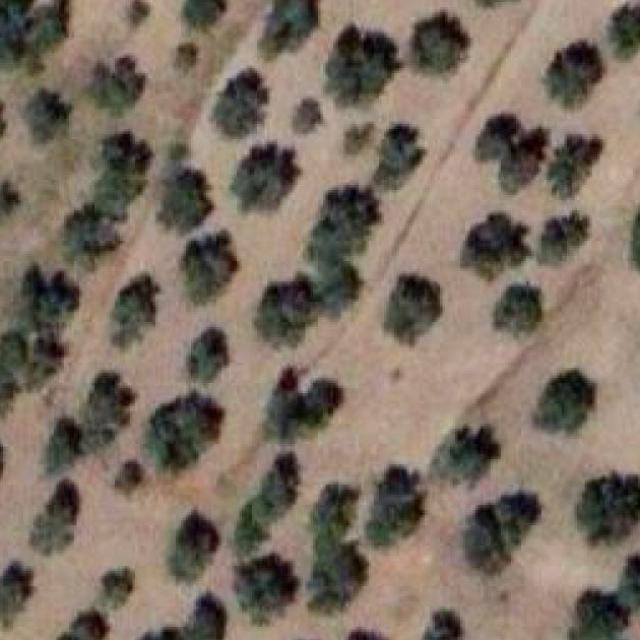Tree: (232, 452, 300, 555), (148, 393, 222, 483), (466, 490, 544, 575), (324, 22, 399, 106), (302, 188, 381, 267), (264, 368, 340, 450), (0, 0, 74, 77), (471, 114, 544, 190), (94, 129, 156, 213), (305, 540, 369, 614), (375, 274, 442, 344), (134, 591, 229, 640), (530, 370, 594, 442), (577, 472, 640, 544), (102, 270, 160, 346), (366, 468, 422, 546), (234, 554, 298, 622), (235, 144, 298, 213), (178, 228, 239, 299), (438, 427, 503, 492), (466, 214, 532, 278), (213, 63, 269, 136), (30, 479, 86, 552), (79, 373, 132, 450), (18, 266, 77, 335), (60, 200, 117, 268), (256, 282, 316, 346), (371, 124, 426, 193), (542, 41, 602, 104), (542, 132, 602, 195), (528, 205, 589, 265), (412, 15, 472, 76), (156, 165, 208, 232), (257, 0, 316, 58), (86, 56, 146, 112), (568, 584, 626, 640), (180, 326, 233, 382), (37, 416, 82, 479), (311, 480, 358, 540), (177, 513, 218, 579), (492, 290, 548, 338), (315, 266, 364, 318), (23, 86, 69, 140), (24, 337, 66, 393), (602, 2, 640, 61), (0, 566, 37, 624), (50, 608, 108, 640), (416, 608, 468, 640), (180, 0, 230, 30), (290, 97, 323, 138), (100, 569, 135, 604), (620, 548, 640, 609), (112, 457, 145, 492), (0, 372, 24, 418), (338, 124, 374, 154), (0, 332, 26, 373), (0, 174, 24, 215), (173, 38, 201, 70), (349, 621, 390, 640), (127, 2, 152, 29), (166, 142, 193, 167), (0, 91, 8, 142)
